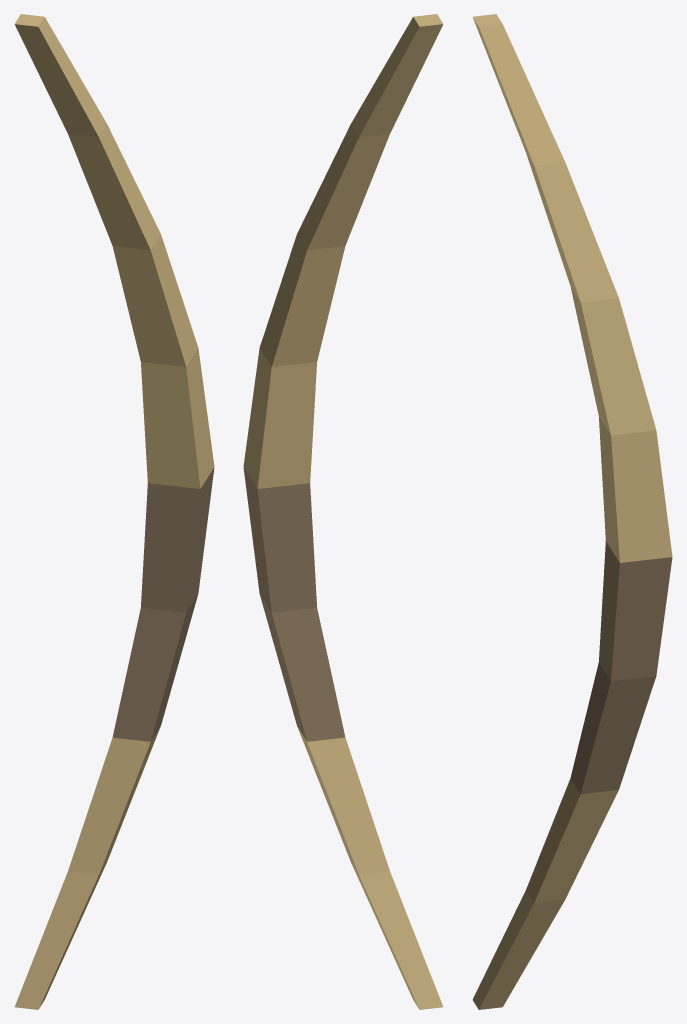
Rendered from gear_longbow_v1.glb.
The picture shows the model from 3 angles, left to right: view 1: azimuth 30°, elevation 25°; view 2: azimuth 150°, elevation 25°; view 3: azimuth 330°, elevation 25°; orthographic projection.
Parts seen in each view (by area): view 1: gear_longbow; view 2: gear_longbow; view 3: gear_longbow.
Boxes of the visible parts, bbox=[...] form: gear_longbow: bbox=[14, 14, 214, 1009]; gear_longbow: bbox=[243, 14, 443, 1009]; gear_longbow: bbox=[472, 14, 672, 1009].
Size of the model in its own units: 0.264 by 1.24 by 0.088.
